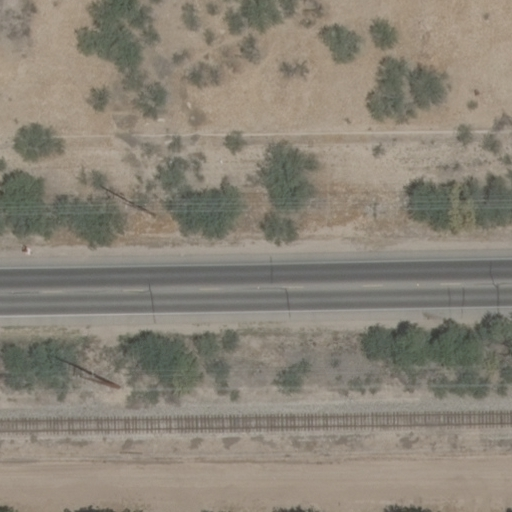DT: (87, 369, 123, 391), (127, 202, 156, 218)
